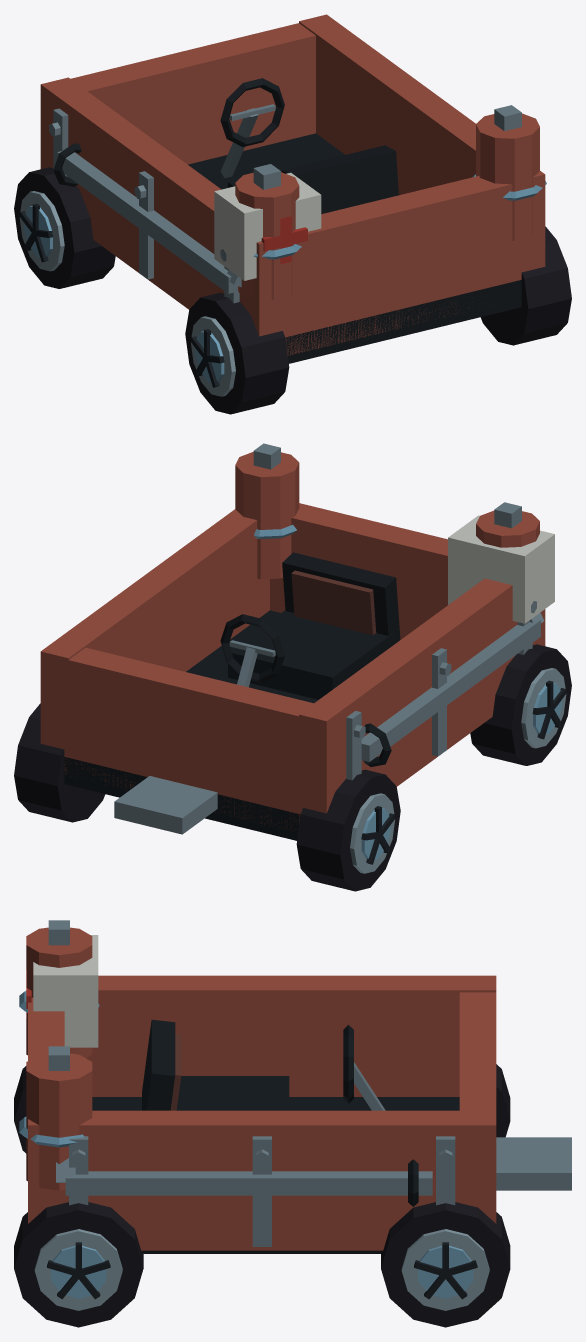
File: kart.glb
The picture shows the model from 3 angles, top to bottom: view 1: azimuth 30°, elevation 25°; view 2: azimuth 150°, elevation 25°; view 3: azimuth 270°, elevation 25°; orthographic projection. The views are drawn at different scales.
Visible parts, largest first — view 1: identity-minecart-minecart-riveted-open-bin, identity-minecart-motif-tanks, wheel-rear-left, wheel-front-left, identity-minecart-driver-cockpit, identity-minecart-motif-medical, identity-minecart-motif-pipes, wheel-rear-right; view 2: identity-minecart-minecart-riveted-open-bin, identity-minecart-driver-cockpit, wheel-front-left, identity-minecart-motif-tanks, wheel-rear-left, identity-minecart-motif-medical, identity-minecart-motif-pipes, wheel-front-right; view 3: identity-minecart-minecart-riveted-open-bin, wheel-front-right, wheel-rear-right, identity-minecart-motif-tanks, identity-minecart-motif-pipes, identity-minecart-driver-cockpit, identity-minecart-motif-medical, wheel-front-left, wheel-rear-left.
Boxes of the visible parts, x1,y1,x2,y2 form: identity-minecart-minecart-riveted-open-bin: (40,14,545,363); identity-minecart-motif-tanks: (235,105,546,299); wheel-rear-left: (185,292,289,414); wheel-front-left: (14,167,115,288); identity-minecart-driver-cockpit: (220,78,398,213); identity-minecart-motif-medical: (214,172,321,280); identity-minecart-motif-pipes: (53,143,241,293); wheel-rear-right: (480,226,571,345); identity-minecart-minecart-riveted-open-bin: (40,503,545,840); identity-minecart-driver-cockpit: (220,552,400,699); wheel-front-left: (296,769,400,891); identity-minecart-motif-tanks: (235,443,539,579); wheel-rear-left: (470,644,571,765); identity-minecart-motif-medical: (448,515,554,623); identity-minecart-motif-pipes: (361,612,544,766); wheel-front-right: (14,703,105,822); identity-minecart-minecart-riveted-open-bin: (28,975,571,1253); wheel-front-right: (381,1202,510,1327); wheel-rear-right: (14,1202,143,1327); identity-minecart-motif-tanks: (19,920,99,1190); identity-minecart-motif-pipes: (56,1158,432,1206); identity-minecart-driver-cockpit: (142,1019,385,1110); identity-minecart-motif-medical: (26,935,98,1047); wheel-front-left: (496,1064,510,1137); wheel-rear-left: (14,1066,26,1153).
Bounding box in the file's own units: 1.99 × 1.3 × 2.58.
